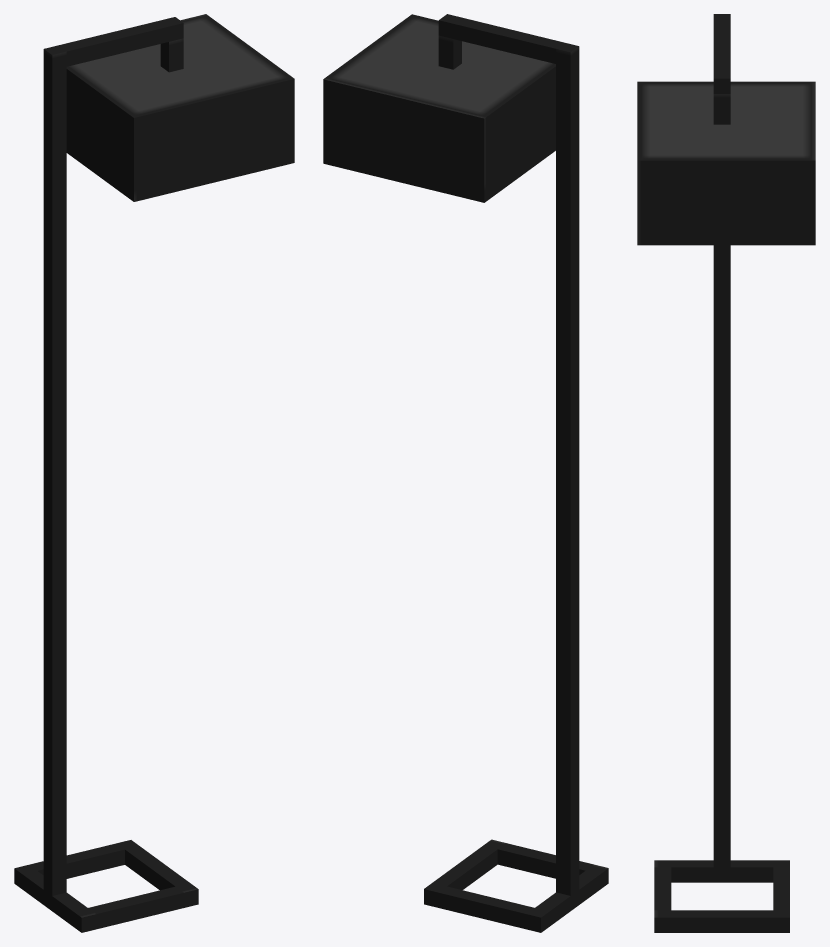
Rendered from lamp.glb.
3 views of the same model, side by side, from view 1: azimuth 30°, elevation 25°; view 2: azimuth 150°, elevation 25°; view 3: azimuth 270°, elevation 25° (orthographic).
Parts seen in each view (by area): view 1: Object_2; view 2: Object_2; view 3: Object_2.
Boxes of the visible parts, x1,y1,x2,y2 form: Object_2: (14,14,294,932); Object_2: (323,14,608,932); Object_2: (637,14,815,932).
Size of the model in its own units: 0.4792 by 1.92 by 0.3594.
Materials: 1 (1 with a texture image).
